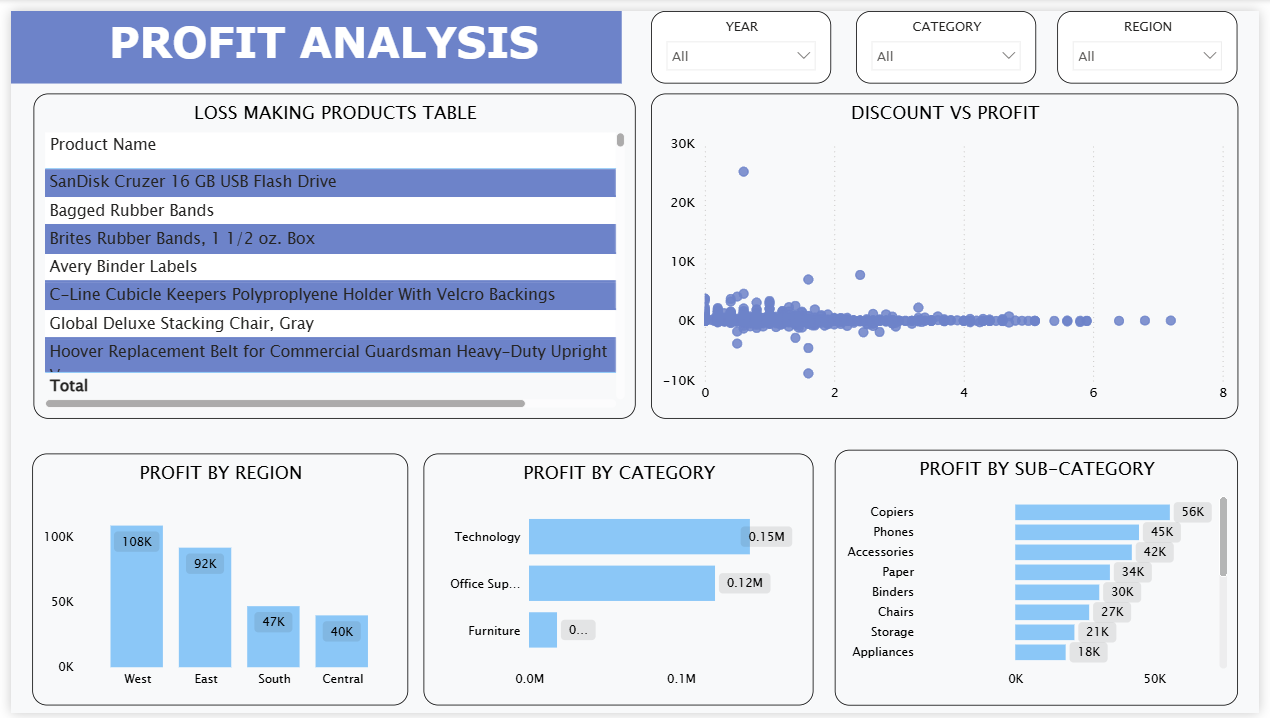

Layout of this report page (visuals, bound fields, positions):
{"tool":"powerbi","page":{"name":"PROFIT ANALYSIS","canvas":[1280,720],"ordinal":1},"visuals":[{"type":"textbox","box":[0,0,1280,69],"z":0},{"type":"slicer","title":"YEAR","fields":{"Values":["Cleaned_Superstore.Region"]},"box":[21.2,83.7,365.1,61.4],"z":1000},{"type":"slicer","title":"REGION","fields":{"Values":["Cleaned_Superstore.Region"]},"box":[875.4,82.6,383,61.4],"z":2000},{"type":"slicer","title":"CATEGORY","fields":{"Values":["Cleaned_Superstore.Category"]},"box":[412.6,82.6,436.6,61.4],"z":3000},{"type":"tableEx","title":"LOSS MAKING PRODUCTS TABLE","fields":{"Values":["Cleaned_Superstore.Product Name","Sum(Cleaned_Superstore.Profit)"]},"box":[21.2,163,618.6,295.9],"z":4000},{"type":"barChart","title":"PROFIT BY SUB-CATEGORY","fields":{"Category":["Cleaned_Superstore.Sub-Category"],"Y":["Sum(Cleaned_Superstore.Profit)"]},"box":[844.2,472.3,414.3,236.7],"z":5000},{"type":"barChart","title":"PROFIT BY CATEGORY","fields":{"Category":["Cleaned_Superstore.Category"],"Y":["Sum(Cleaned_Superstore.Profit)"]},"box":[425.4,475.7,400.9,233.4],"z":6000},{"type":"columnChart","title":"PROFIT BY REGION","fields":{"Category":["Cleaned_Superstore.Region"],"Y":["Sum(Cleaned_Superstore.Profit)"]},"box":[21.2,475.7,386.4,233.4],"z":7000},{"type":"scatterChart","title":"DISCOUNT VS PROFIT ","fields":{"X":["Sum(Cleaned_Superstore.Discount)"],"Y":["Sum(Cleaned_Superstore.Profit)"],"Category":["Cleaned_Superstore.Product Name"]},"box":[655.5,163,603,295.9],"z":8000}]}

Visuals, with their boxes in screenshot pixels (x1, y1, x2, y2), scaled from the page's 1280x720 canvas onto the 1270x718 screenshot:
textbox: box(0, 0, 1269, 69)
"YEAR" slicer: box(21, 83, 383, 145)
"REGION" slicer: box(869, 82, 1249, 144)
"CATEGORY" slicer: box(409, 82, 843, 144)
"LOSS MAKING PRODUCTS TABLE" tableEx: box(21, 163, 635, 458)
"PROFIT BY SUB-CATEGORY" barChart: box(838, 471, 1249, 707)
"PROFIT BY CATEGORY" barChart: box(422, 474, 820, 707)
"PROFIT BY REGION" columnChart: box(21, 474, 404, 707)
"DISCOUNT VS PROFIT " scatterChart: box(650, 163, 1249, 458)
